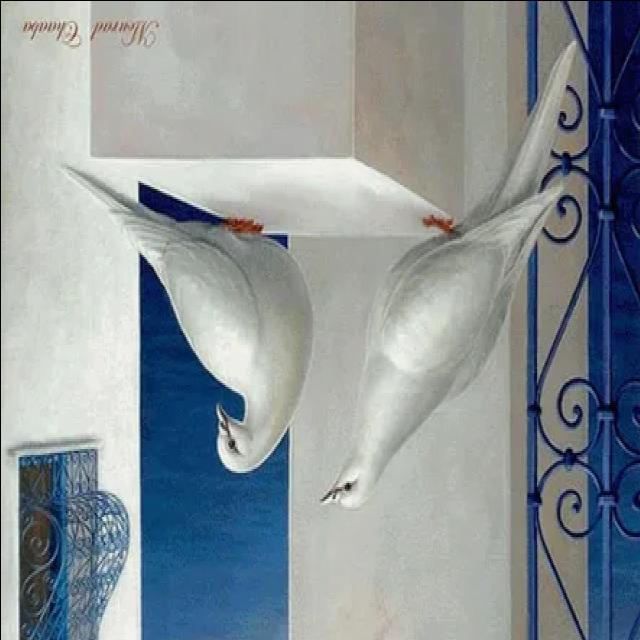pigeon: (54, 152, 316, 486)
